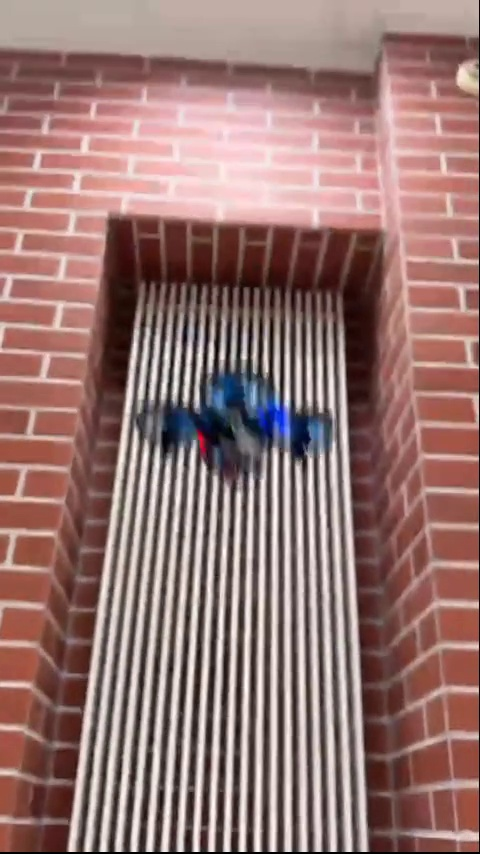drone: (135, 375, 334, 471)
